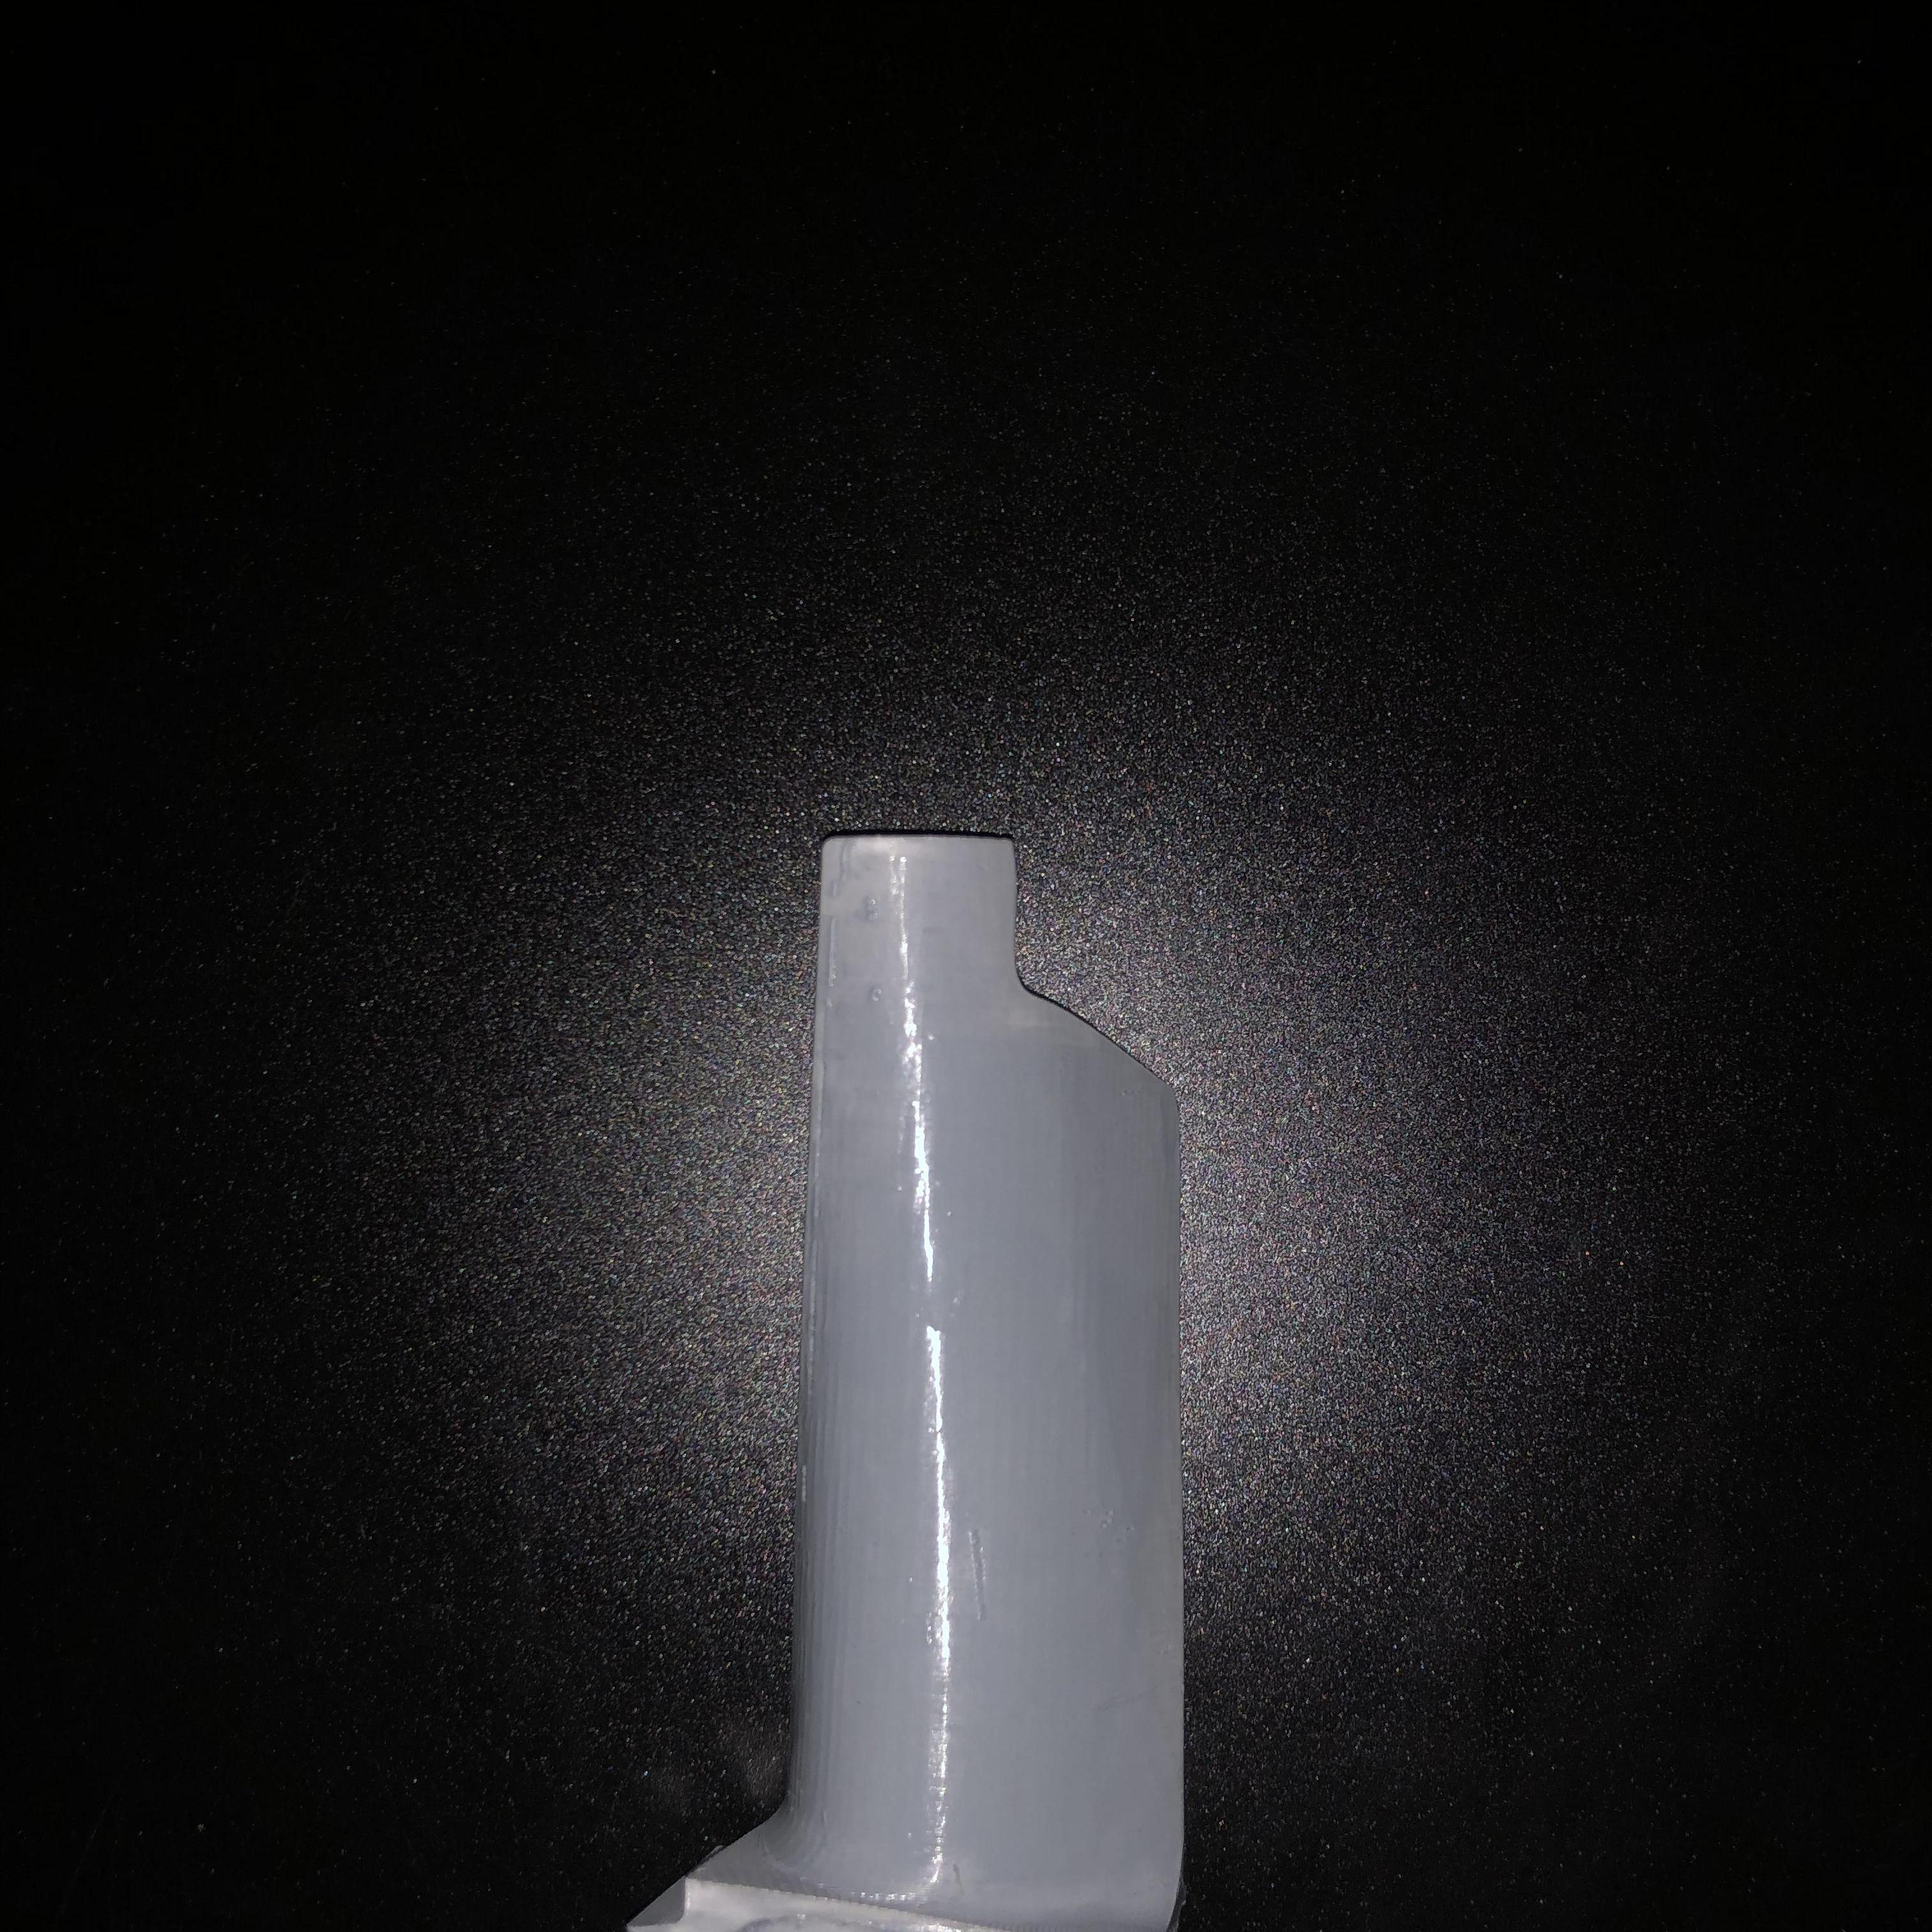fracture: (991, 847, 1173, 1086)
